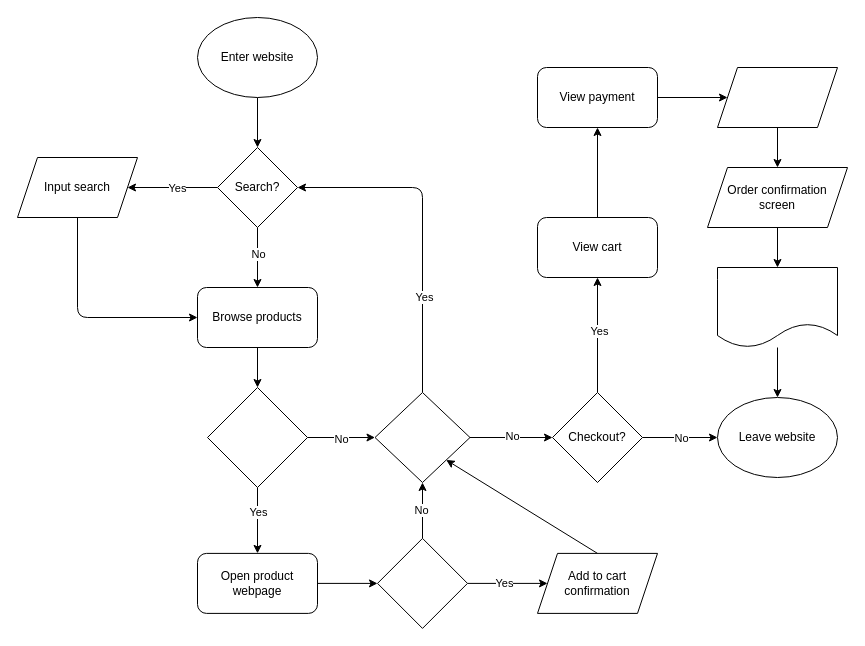
Image size: 865x646. Some labels were removed from this diagram. The centre of each missing label's shape, as x and y in pixels:
"Add to cart?" belongs at [422,582].
"Continue shopping?" belongs at [422,437].
"Input payment information" belongs at [777,97].
"Send email" belongs at [777,307].
"View product?" belongs at [257,437].
